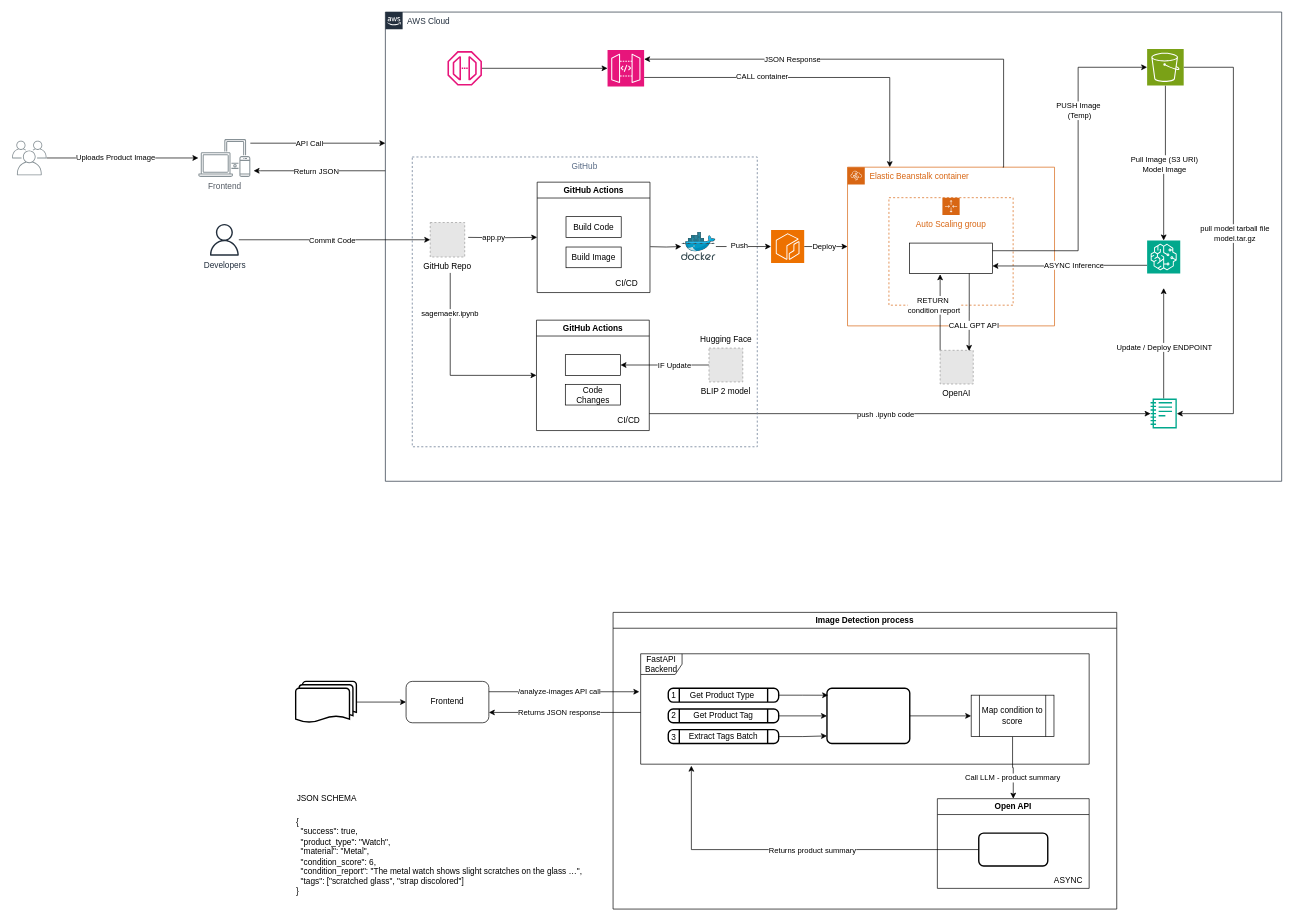
The diagram is 1294 pixels wide and 921 high, and some of its shapes have lost their labels. Grey dashed boxes stand in for pictures. Each missing label, with the centre of its shape:
"API Endpoint" belongs at (x=464, y=68).
"API Gateway" belongs at (x=625, y=68).
"BLIP 2 Sagemaker Notebook" belongs at (x=1163, y=413).
"BLIP2 model endpoint" belongs at (x=1163, y=257).
"Call BLIP2 model" belongs at (x=868, y=715).
"ECR" belongs at (x=787, y=246).
"Fast API Application Server" belongs at (x=950, y=258).
"GPT 4o model" belongs at (x=1013, y=849).
"Image Uploads" belongs at (x=326, y=701).
"Monitor model" belongs at (x=593, y=364).
"users" belongs at (x=29, y=157).
